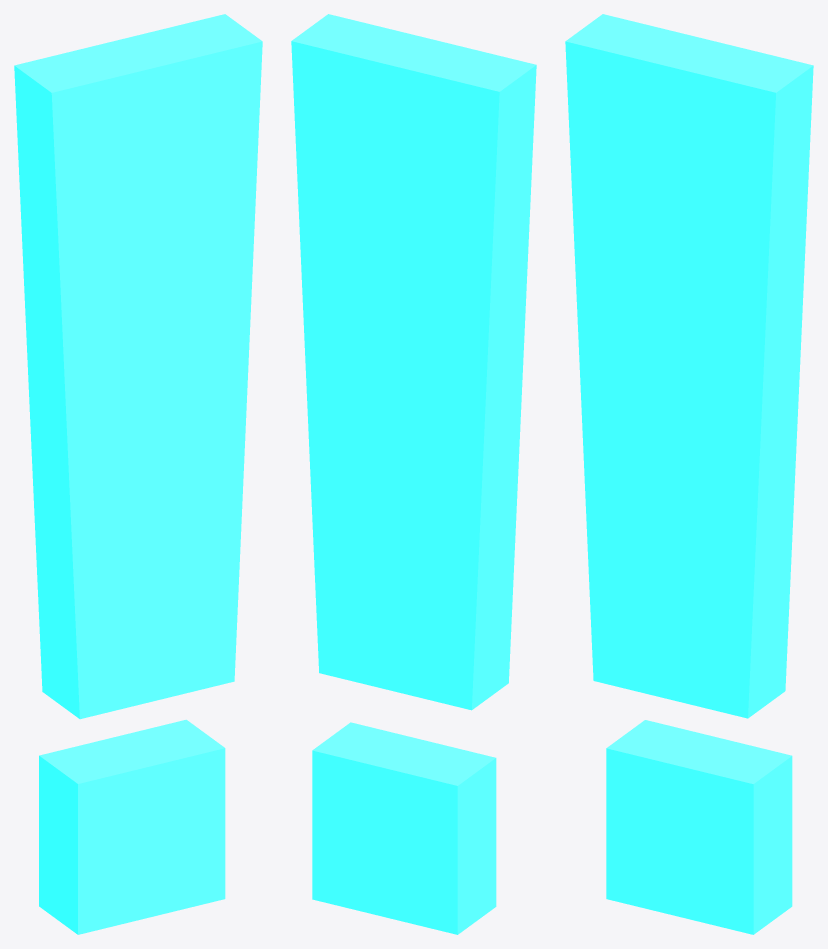
The model's file is icon_surprise.fbx.
3 views of the same model, side by side, from view 1: azimuth 30°, elevation 25°; view 2: azimuth 150°, elevation 25°; view 3: azimuth 330°, elevation 25° (orthographic).
Parts seen in each view (by area): view 1: Surprise; view 2: Surprise; view 3: Surprise.
Boxes of the visible parts, box(x1,y1,x2,y2) form: Surprise: box(14, 14, 262, 934); Surprise: box(291, 14, 536, 934); Surprise: box(565, 14, 813, 934).
Size of the model in its own units: 4.52 by 17.52 by 1.72.
